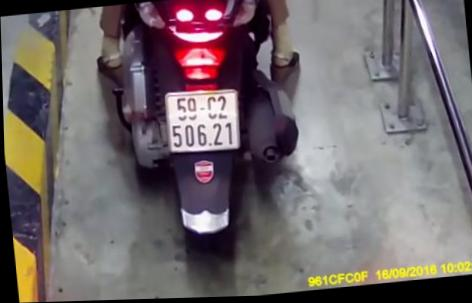LP: (161, 84, 242, 157)
